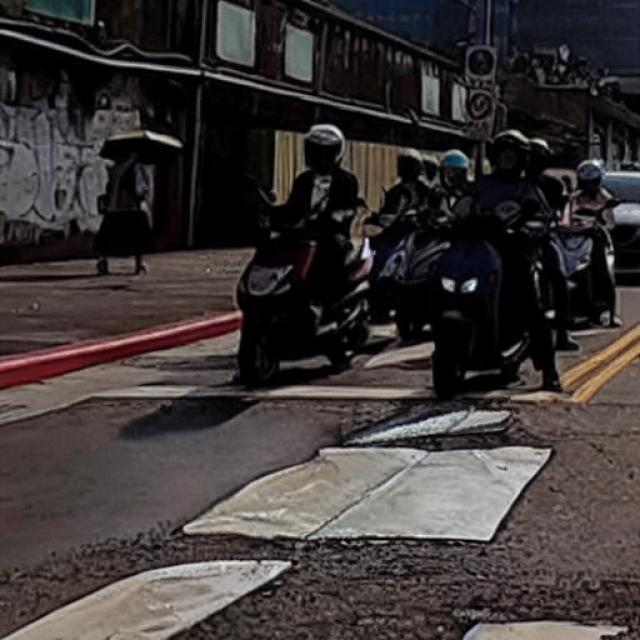puddle: (342, 402, 514, 443)
